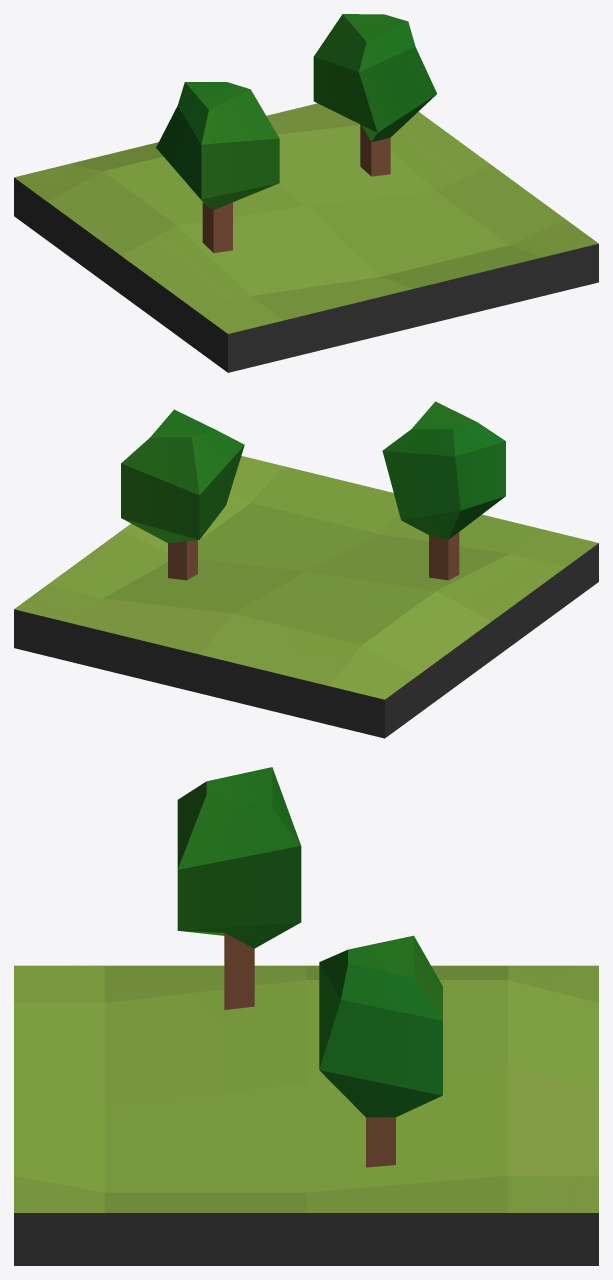
Rendered from trees_6.fbx.
3 views of the same model, one above another, from view 1: azimuth 30°, elevation 25°; view 2: azimuth 150°, elevation 25°; view 3: azimuth 270°, elevation 25° (orthographic). The views are drawn at different scales.
Parts seen in each view (by area): view 1: block; view 2: block; view 3: block.
Part boxes in pixels (left/top/right/bottom): block: left=14, top=14, right=598, bottom=372; block: left=14, top=401, right=598, bottom=738; block: left=14, top=767, right=598, bottom=1265.
Bounding box in the file's own units: 200 × 200 × 108.
1 material, 1 textured.
